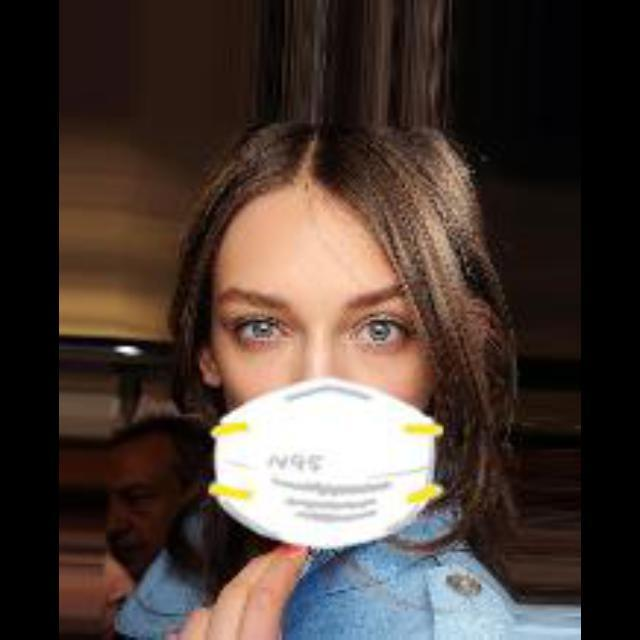suspicion: (196, 176, 526, 604)
